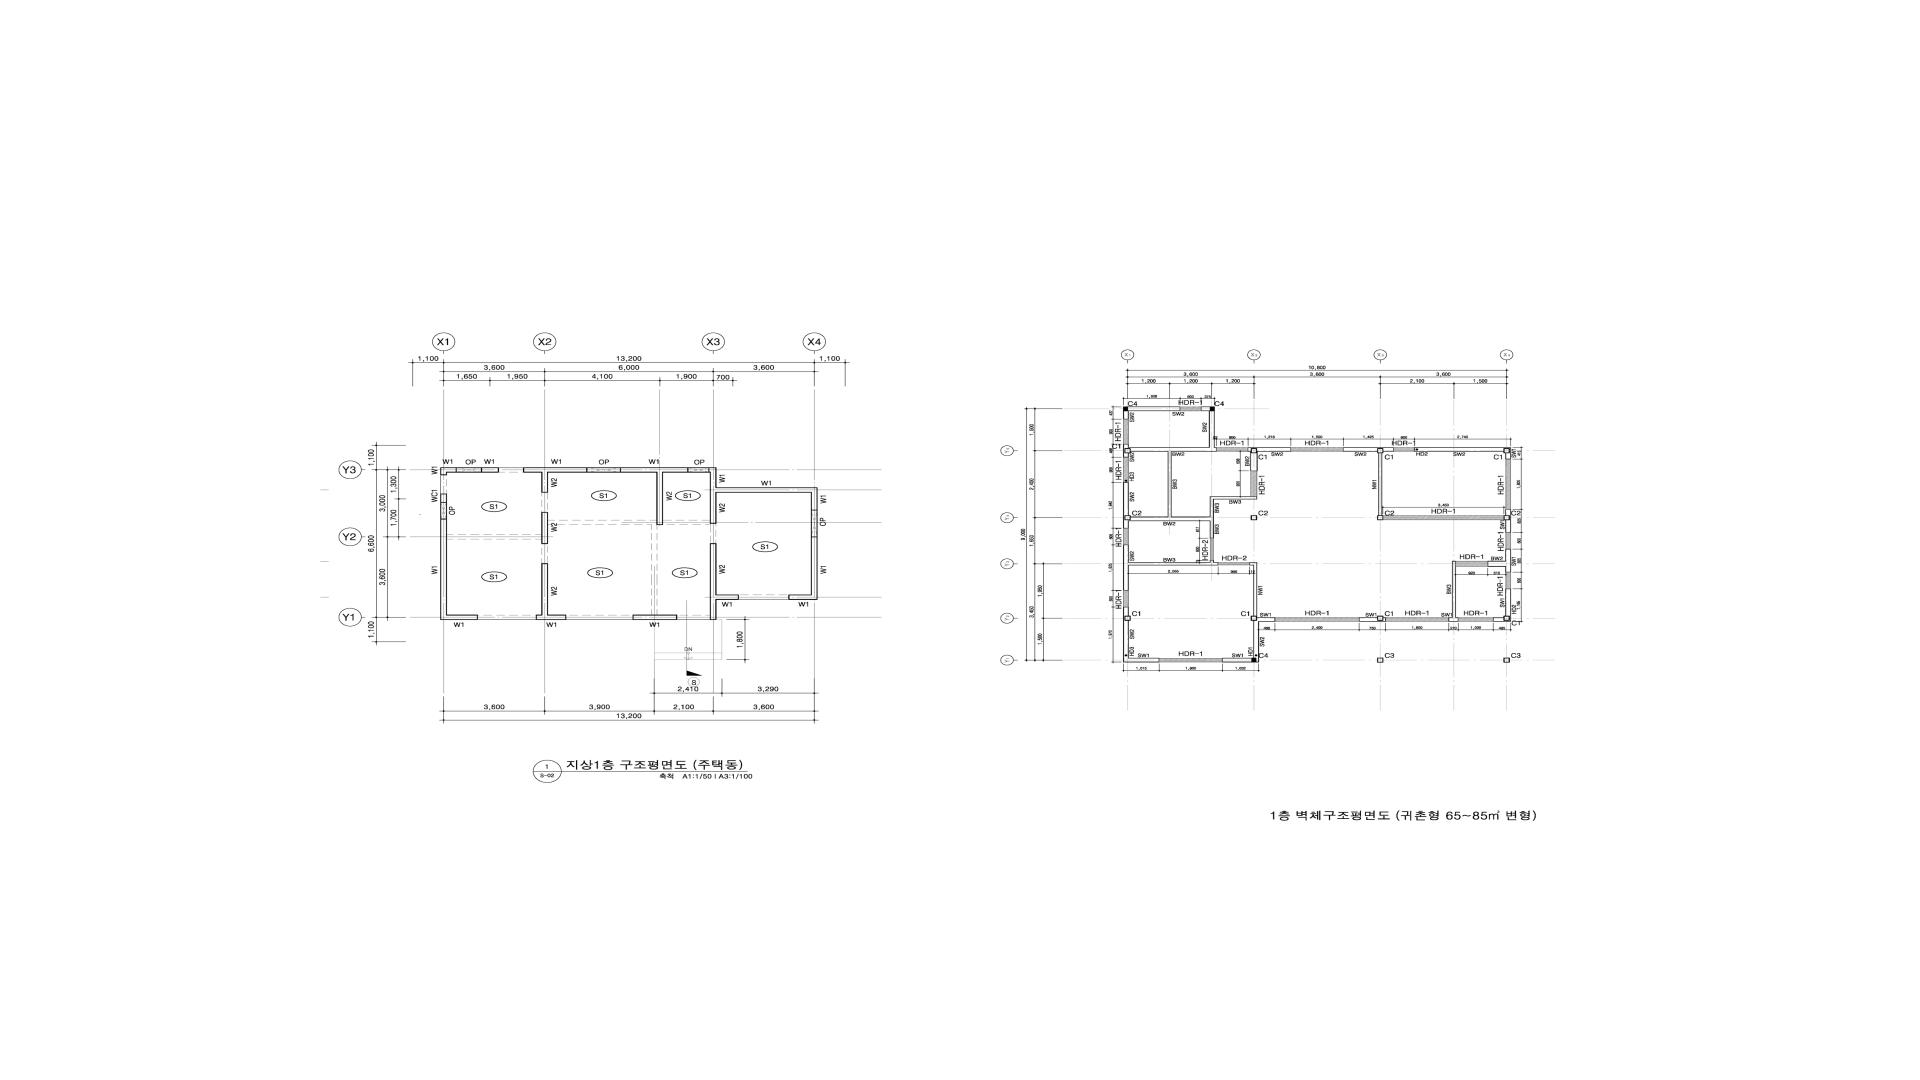door: (1383, 516, 1503, 520), (1456, 562, 1487, 567), (1250, 471, 1257, 496), (1218, 562, 1250, 566), (1211, 538, 1213, 560)
wall: (708, 467, 818, 524), (620, 468, 688, 525), (440, 518, 477, 620), (709, 543, 738, 620), (789, 537, 818, 600), (535, 563, 566, 620), (524, 467, 588, 493), (1414, 447, 1506, 452), (1129, 447, 1209, 452), (1129, 562, 1218, 566), (1129, 517, 1209, 521), (1124, 406, 1180, 411), (1124, 607, 1129, 662), (1344, 447, 1394, 452), (541, 512, 549, 545), (1253, 622, 1259, 662), (1378, 454, 1382, 516), (1124, 545, 1129, 591), (1124, 483, 1129, 529), (633, 615, 678, 620), (1247, 447, 1291, 452), (1452, 560, 1456, 617), (1209, 496, 1215, 538), (1209, 406, 1215, 447), (1253, 566, 1257, 617), (1168, 452, 1171, 517), (1215, 496, 1257, 500), (1506, 588, 1511, 617), (1250, 452, 1258, 471), (1360, 617, 1386, 622), (440, 468, 456, 476), (1506, 549, 1511, 572), (1506, 509, 1511, 533), (1487, 560, 1506, 567), (1129, 658, 1159, 662), (1222, 658, 1253, 662), (1253, 617, 1275, 622), (481, 467, 498, 473), (1493, 617, 1511, 622), (1124, 444, 1129, 458), (1506, 447, 1511, 459), (440, 493, 447, 502), (1448, 617, 1458, 622), (1209, 447, 1217, 452), (1201, 406, 1209, 411), (1124, 411, 1129, 419), (1377, 516, 1383, 521), (1250, 562, 1257, 566), (1377, 452, 1383, 454), (1209, 560, 1215, 562)
window: (1275, 617, 1360, 622), (1506, 459, 1511, 509), (1159, 658, 1222, 662), (1386, 617, 1448, 621), (1291, 447, 1344, 451), (1217, 447, 1247, 452), (1458, 617, 1493, 621), (1124, 419, 1129, 444), (1124, 458, 1129, 483), (1180, 406, 1201, 411), (1506, 572, 1511, 588), (1124, 591, 1129, 607), (1506, 533, 1511, 549), (1124, 529, 1129, 545), (1394, 447, 1414, 451)
